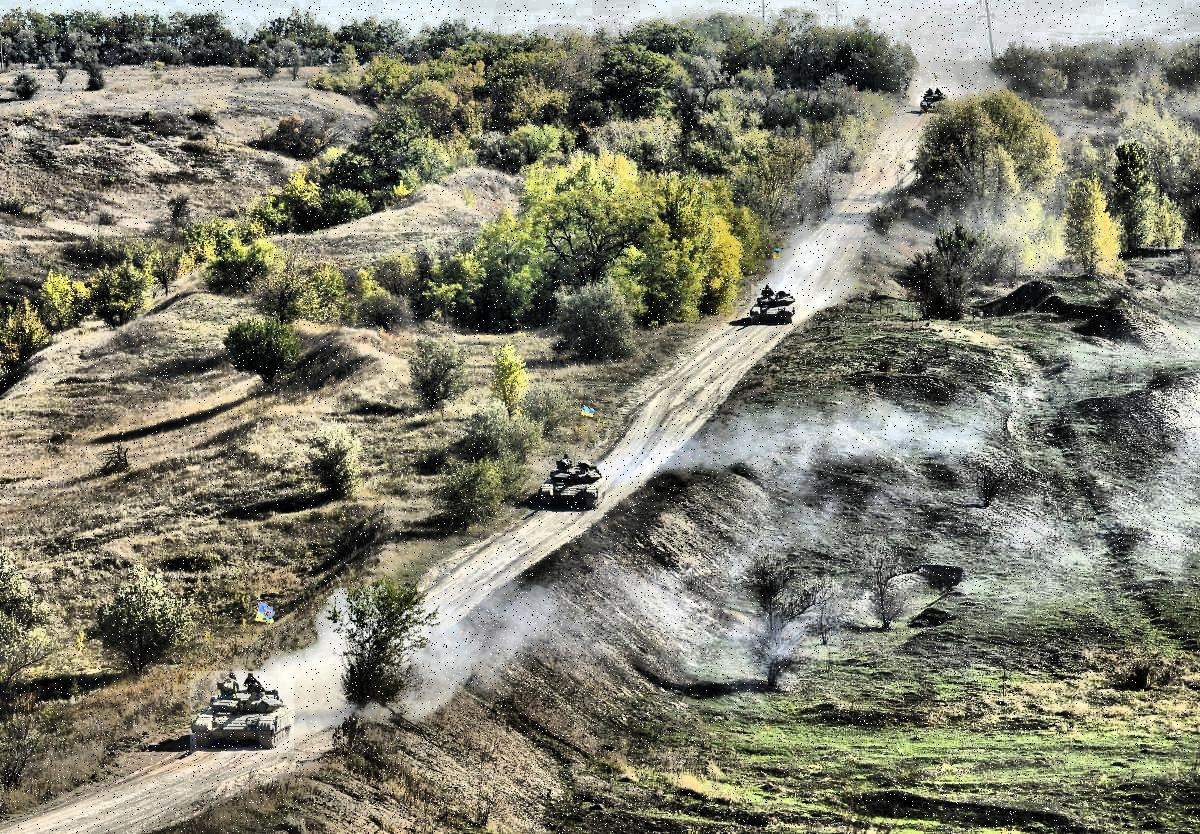military-vehicle: (190, 671, 294, 753), (540, 453, 607, 507), (751, 284, 799, 324), (921, 87, 950, 112)
